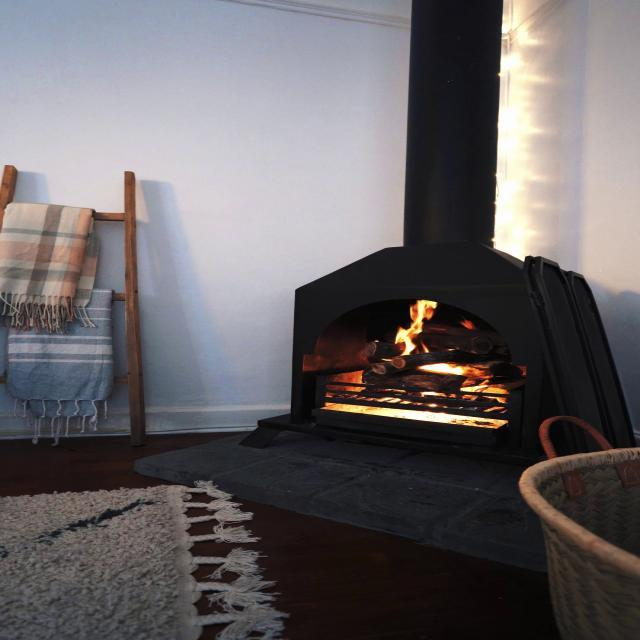Fire: (412, 360, 518, 422), (382, 300, 442, 363)
